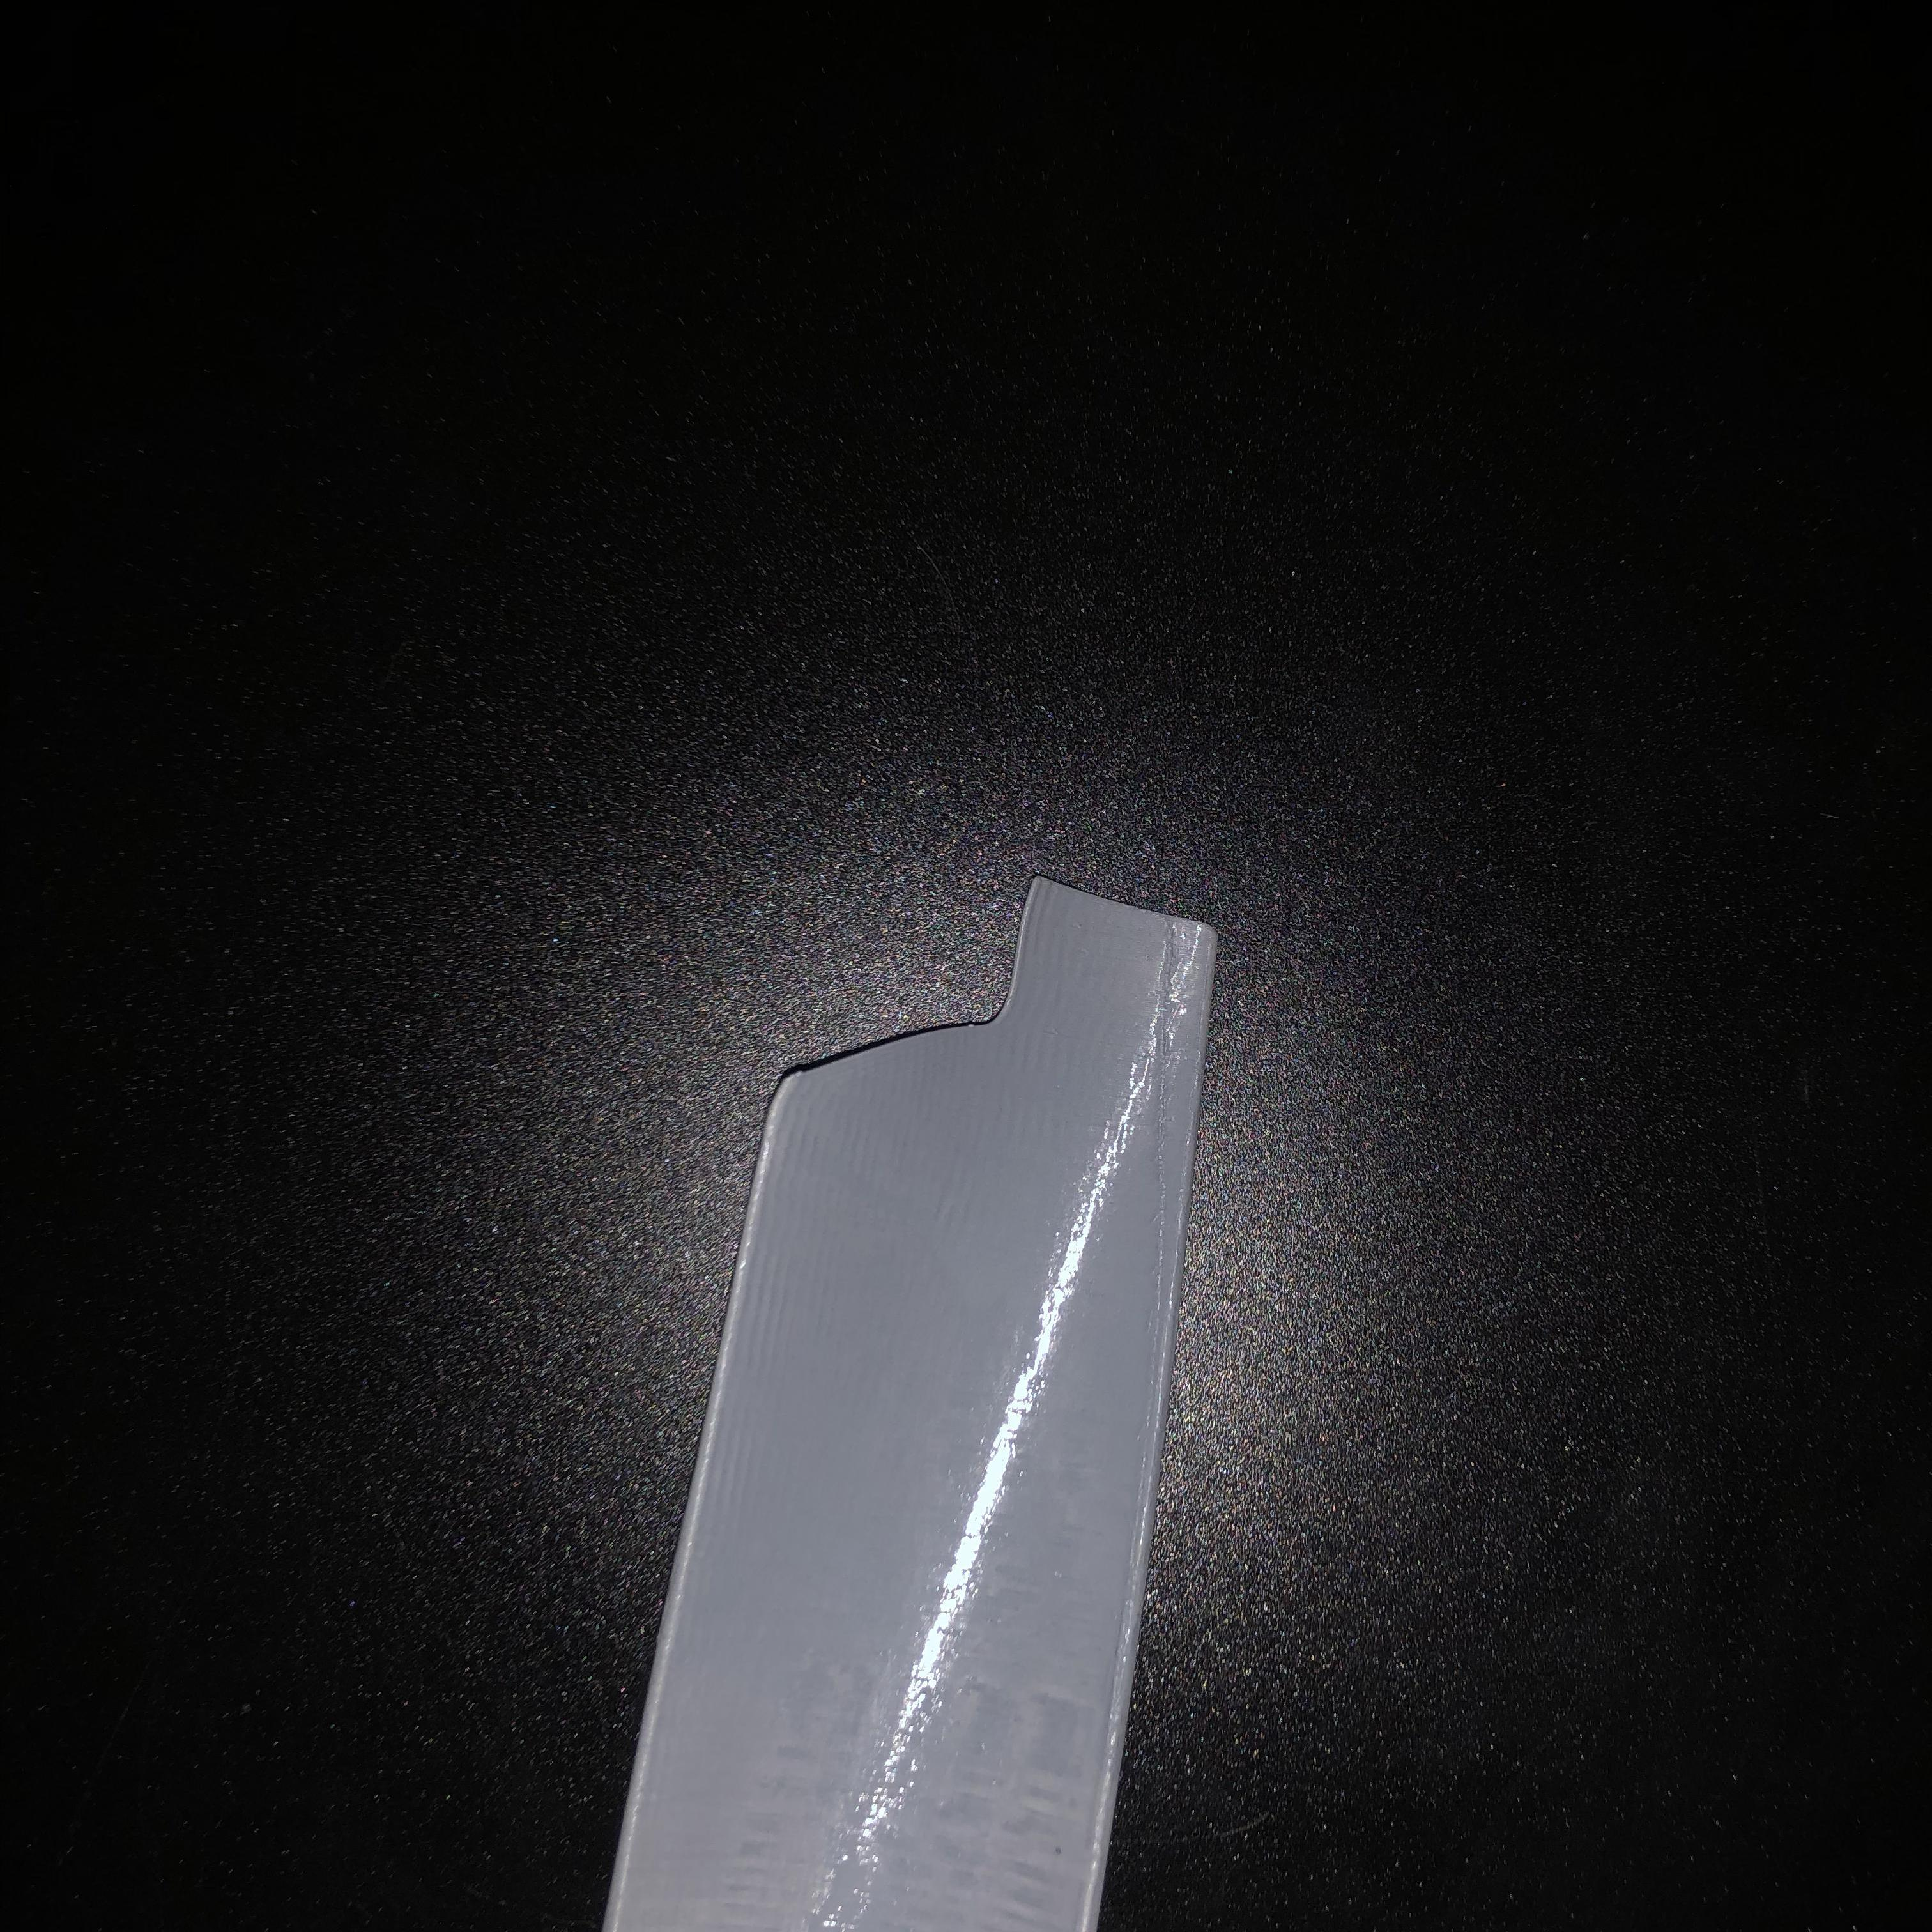fracture: (791, 897, 1060, 1090)
